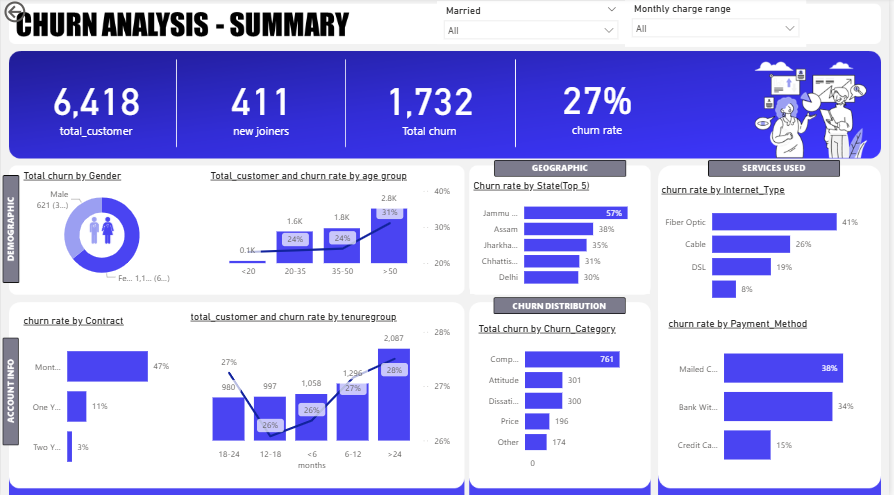

This screenshot's page, from the dashboard's own definition file:
{"tool":"powerbi","page":{"name":"Summary","canvas":[1280,720],"ordinal":0},"visuals":[{"type":"image","box":[105.1,303.8,79.2,60.5],"z":0},{"type":"card","fields":{"Values":["tbl_meaures.total_customer"]},"box":[33.1,89.3,207.4,126.7],"z":1000},{"type":"card","fields":{"Values":["tbl_meaures.new joiners"]},"box":[263.5,89.3,221.8,126.7],"z":2000},{"type":"card","fields":{"Values":["tbl_meaures.Total churn"]},"box":[508.3,89.3,217.4,126.7],"z":3000},{"type":"card","fields":{"Values":["tbl_meaures.churn rate"]},"box":[750.2,93.6,216,116.6],"z":4000},{"type":"actionButton","box":[0,0,100,40],"z":5000},{"type":"donutChart","fields":{"Category":["db_churn customer_data.Gender"],"Y":["tbl_meaures.Total churn"]},"box":[27.4,247.7,236.2,171.4],"z":6000},{"type":"lineStackedColumnComboChart","title":"Total_customer and churn rate by age group","fields":{"Category":["mapping_Agegroup.age group"],"Y":["tbl_meaures.total_customer"],"Y2":["tbl_meaures.churn rate"]},"box":[296.6,247.7,355.7,164.2],"z":7000},{"type":"clusteredBarChart","fields":{"Category":["db_churn customer_data.Payment_Method"],"Y":["tbl_meaures.churn rate"]},"box":[956.2,460.8,289.4,233.3],"z":8000},{"type":"clusteredBarChart","fields":{"Y":["tbl_meaures.churn rate"],"Category":["db_churn customer_data.Contract"]},"box":[27.4,456.5,220.3,241.9],"z":9000},{"type":"lineStackedColumnComboChart","fields":{"Category":["mapping_TenureGrp.tenuregroup"],"Y":["tbl_meaures.total_customer"],"Y2":["tbl_meaures.churn rate"]},"box":[267.8,450.7,384.5,237.6],"z":10000},{"type":"clusteredBarChart","title":"Churn rate by State(Top 5)","fields":{"Category":["db_churn customer_data.State"],"Y":["tbl_meaures.churn rate"]},"box":[675.4,262.1,259.2,164.2],"z":11000},{"type":"clusteredBarChart","fields":{"Y":["tbl_meaures.Total churn"],"Category":["db_churn customer_data.Churn_Category"]},"box":[682.6,468,237.6,230.4],"z":12000},{"type":"clusteredBarChart","fields":{"Y":["tbl_meaures.churn rate"],"Category":["db_churn customer_data.Internet_Type"]},"box":[946.1,267.8,299.5,182.9],"z":13000},{"type":"slicer","fields":{"Values":["db_churn customer_data.Monthly charge  status"]},"box":[898.6,1.4,260.6,69.1],"z":14000},{"type":"slicer","fields":{"Values":["db_churn customer_data.Married"]},"box":[627.8,4.3,270.7,61.9],"z":15000}]}

Visuals, with their boxes in screenshot pixels (x1, y1, x2, y2), scaled from the page's 1280x720 canvas onto the 894x495 screenshot:
image: <region>73, 209, 129, 250</region>
card - tbl_meaures.total_customer: <region>23, 61, 168, 148</region>
card - tbl_meaures.new joiners: <region>184, 61, 339, 148</region>
card - tbl_meaures.Total churn: <region>355, 61, 507, 148</region>
card - tbl_meaures.churn rate: <region>524, 64, 675, 145</region>
actionButton: <region>0, 0, 70, 28</region>
donutChart - db_churn customer_data.Gender x tbl_meaures.Total churn: <region>19, 170, 184, 288</region>
"Total_customer and churn rate by age group" lineStackedColumnComboChart: <region>207, 170, 456, 283</region>
clusteredBarChart - db_churn customer_data.Payment_Method x tbl_meaures.churn rate: <region>668, 317, 870, 477</region>
clusteredBarChart - tbl_meaures.churn rate x db_churn customer_data.Contract: <region>19, 314, 173, 480</region>
lineStackedColumnComboChart - mapping_TenureGrp.tenuregroup x tbl_meaures.total_customer: <region>187, 310, 456, 473</region>
"Churn rate by State(Top 5)" clusteredBarChart: <region>472, 180, 653, 293</region>
clusteredBarChart - tbl_meaures.Total churn x db_churn customer_data.Churn_Category: <region>477, 322, 643, 480</region>
clusteredBarChart - tbl_meaures.churn rate x db_churn customer_data.Internet_Type: <region>661, 184, 870, 310</region>
slicer - db_churn customer_data.Monthly charge  status: <region>628, 1, 810, 48</region>
slicer - db_churn customer_data.Married: <region>438, 3, 628, 46</region>
